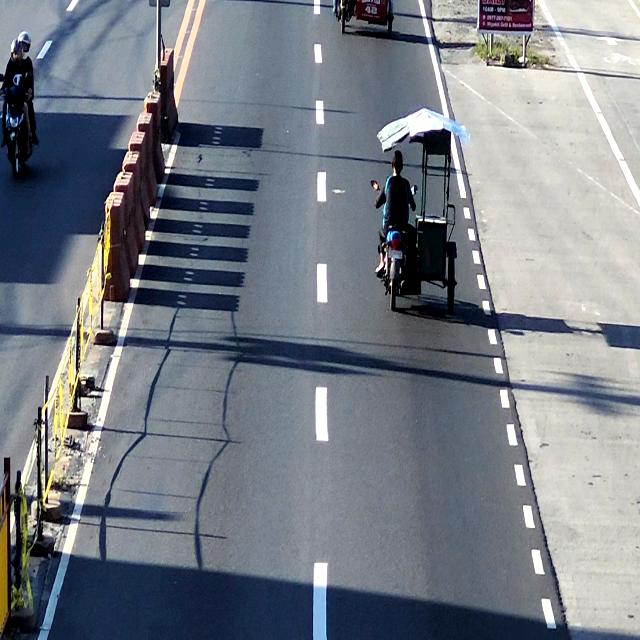License-Plate: (387, 247, 404, 262)
Tricycle: (372, 102, 467, 322), (328, 0, 397, 36)
